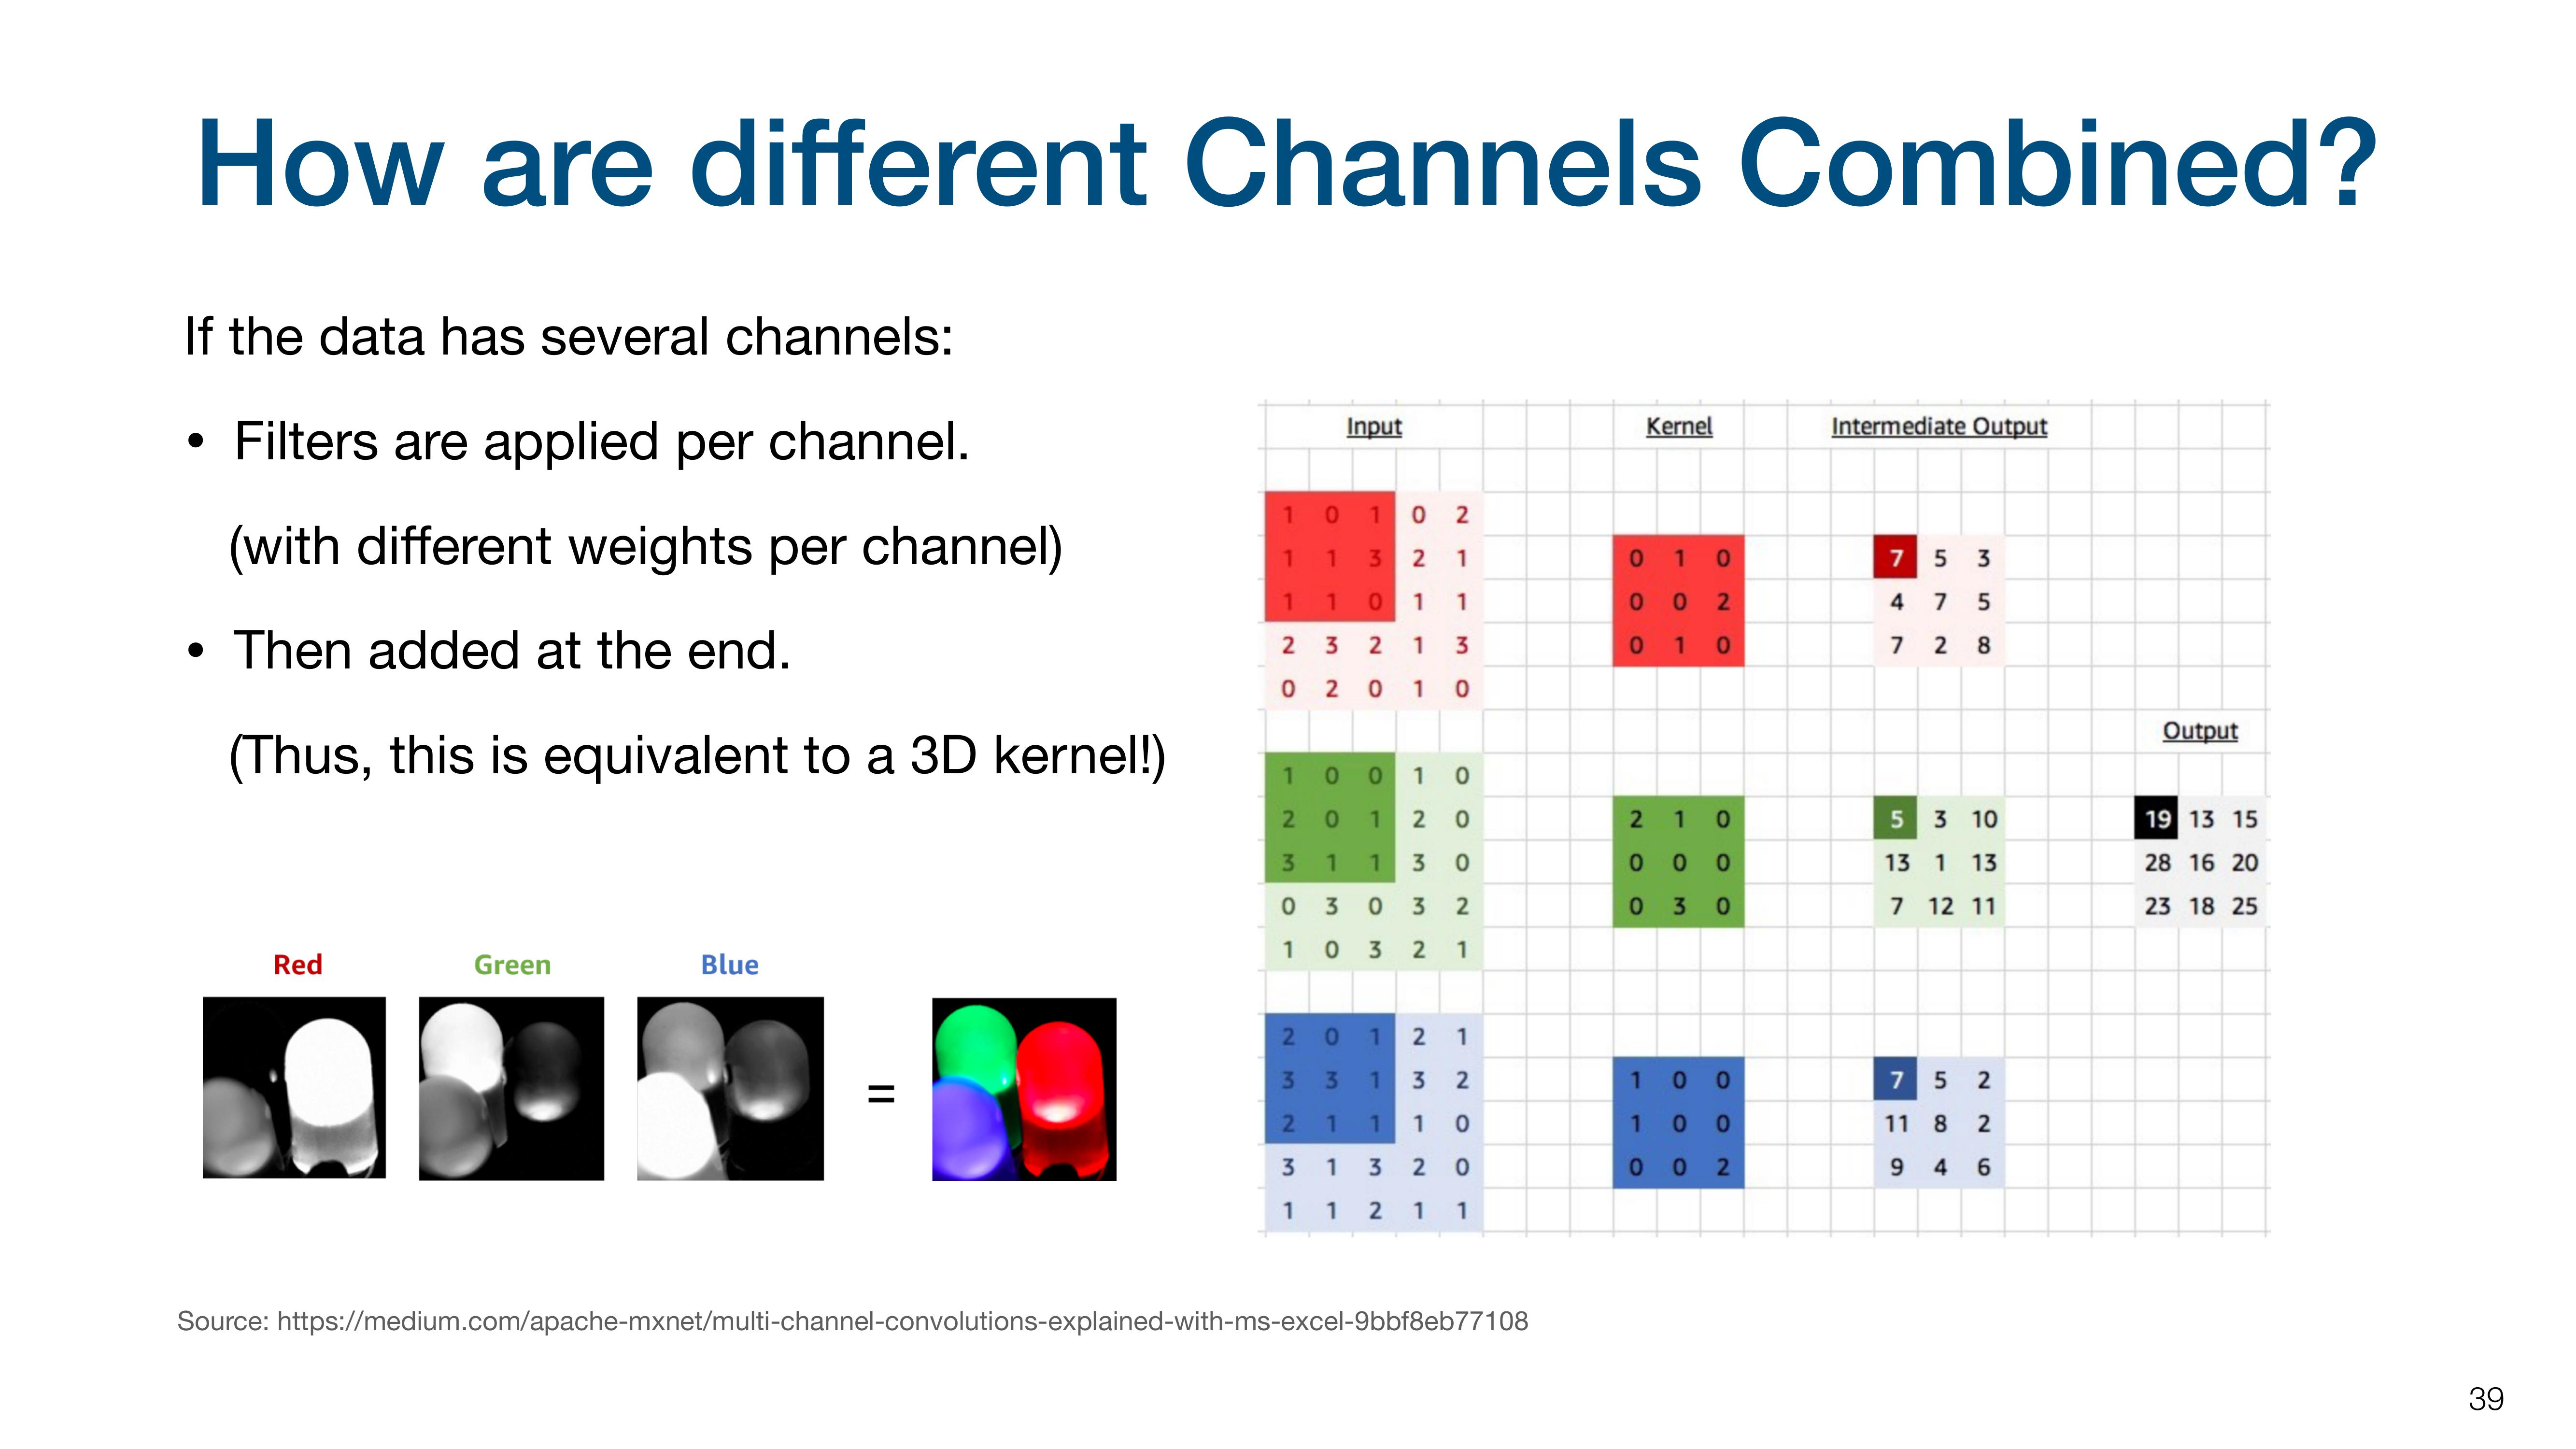Title: (179, 92, 2388, 249)
